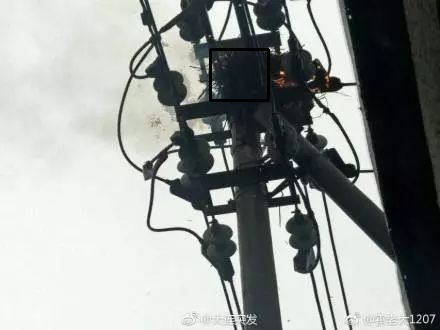bird-nest: (215, 54, 311, 112)
